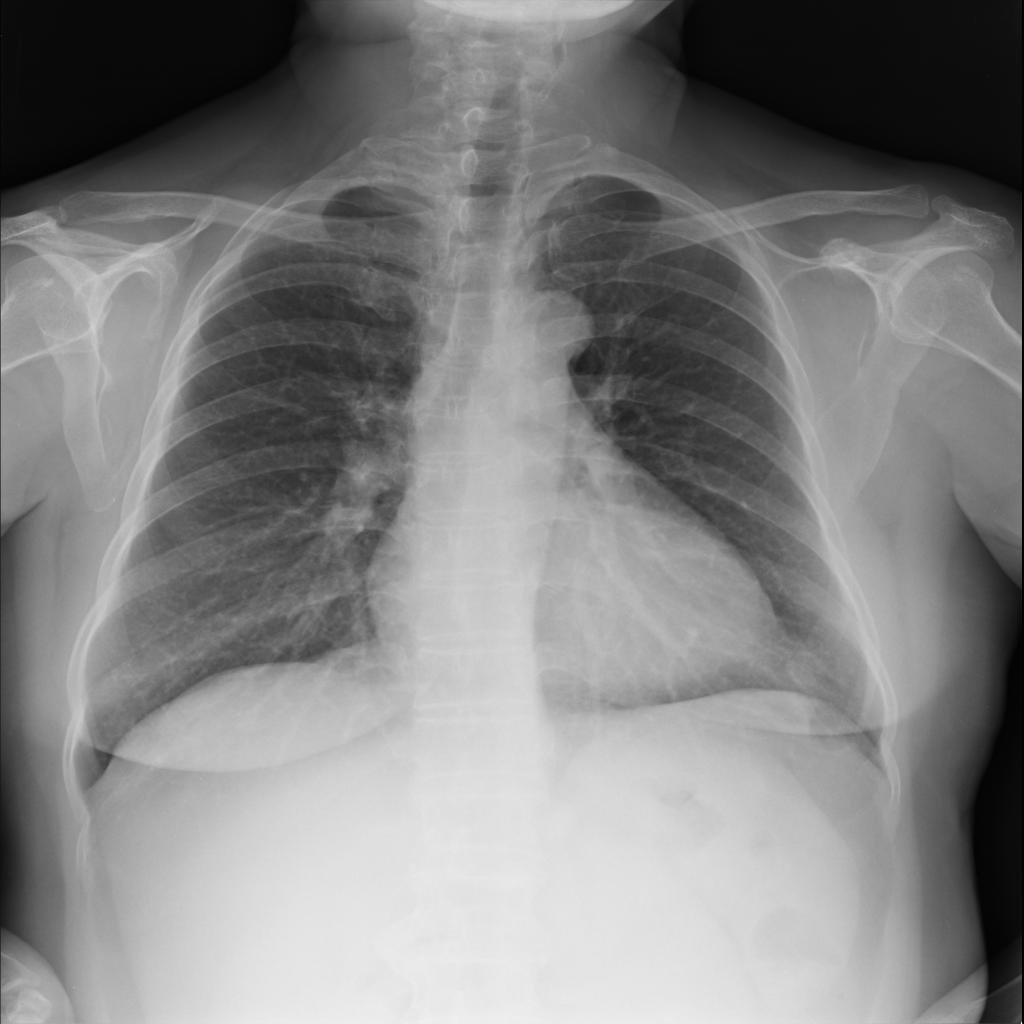Nodule: (785, 649, 825, 689)
